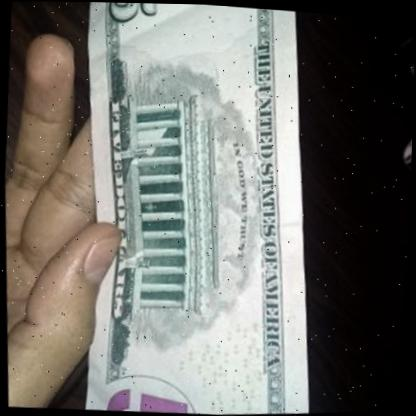five-back: (50, 1, 338, 416)
